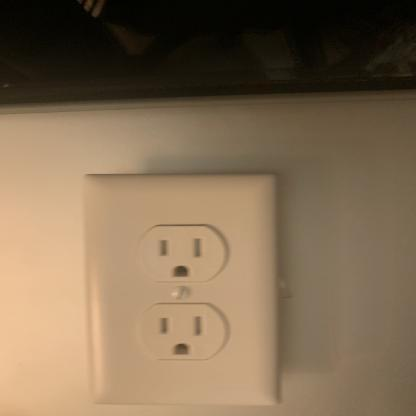OUTLET: (87, 176, 275, 406)
